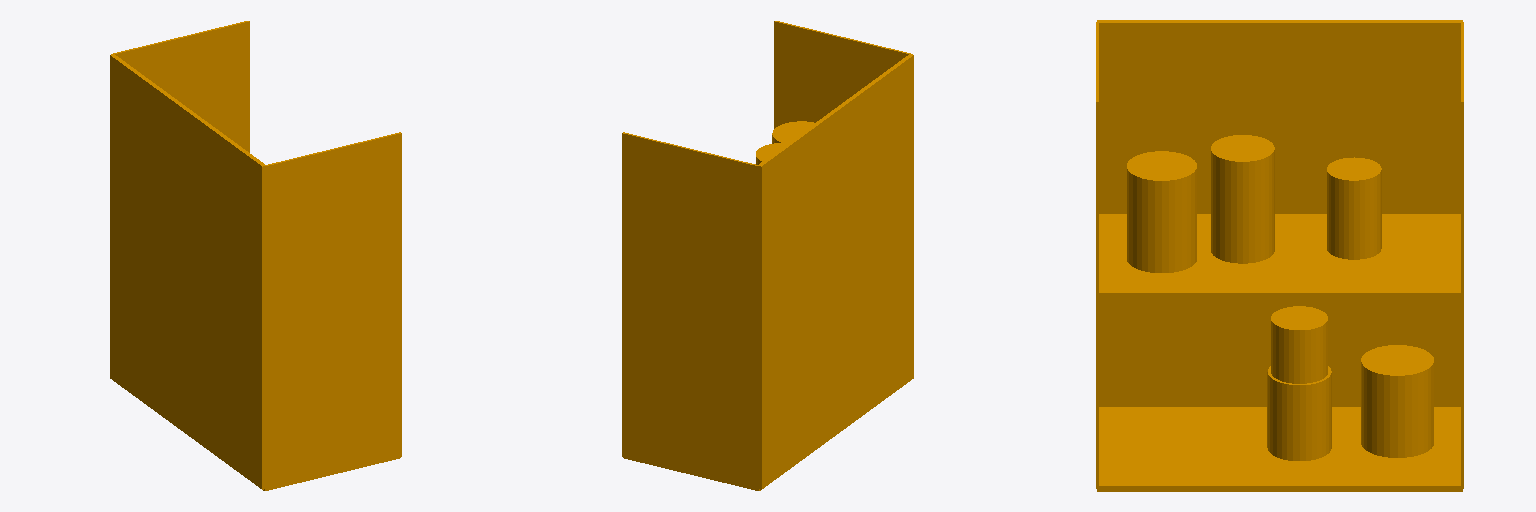
URDF robot description (syn_can_cabinet_1833):
<?xml version="1.0" ?>
<robot name="syn_can_cabinet_1833">
    <link concave="yes" name="base_link">
        <inertial>
            <origin rpy="0 0 0" xyz="0 0 0"/>
            <mass value="0.0"/>
            <inertia ixx="1e-08" ixy="0" ixz="0" iyy="1e-08" iyz="0" izz="1e-08"/>
        </inertial>
        <visual>
            <origin xyz="0 0 0" rpy="0 0 0" />
            <geometry>
                <mesh filename="syn_can_cabinet_1833.obj" scale="1.000000 1.000000 1.000000"/>
            </geometry>         
        </visual>

        <collision concave="yes">
            <origin xyz="0 0 0" rpy="0 0 0"/>
            <geometry>
                <mesh filename="syn_can_cabinet_1833.obj" scale="1.000000 1.000000 1.000000"/>
            </geometry>
        </collision>
    </link>
</robot>
    

--- Facts derived from the render (not from the file) ---
The picture shows the robot from 3 angles, left to right: view 1: azimuth 30°, elevation 25°; view 2: azimuth 150°, elevation 25°; view 3: azimuth 270°, elevation 25°; orthographic projection.
Robot: syn_can_cabinet_1833 — 1 links, 0 joints (none); root link base_link; default pose: every joint at zero.
Links seen in each view (by area): view 1: base_link; view 2: base_link; view 3: base_link.
Link boxes in pixels (box(x1,y1,x2,y2)): base_link: box(110, 21, 401, 490); base_link: box(622, 21, 913, 490); base_link: box(1096, 20, 1463, 491).
Bounding box of the posed robot: 0.1688 × 0.3236 × 0.3776 m (x, y, z).
1 mesh visuals loaded from 1 distinct referenced files (1 OBJ).
